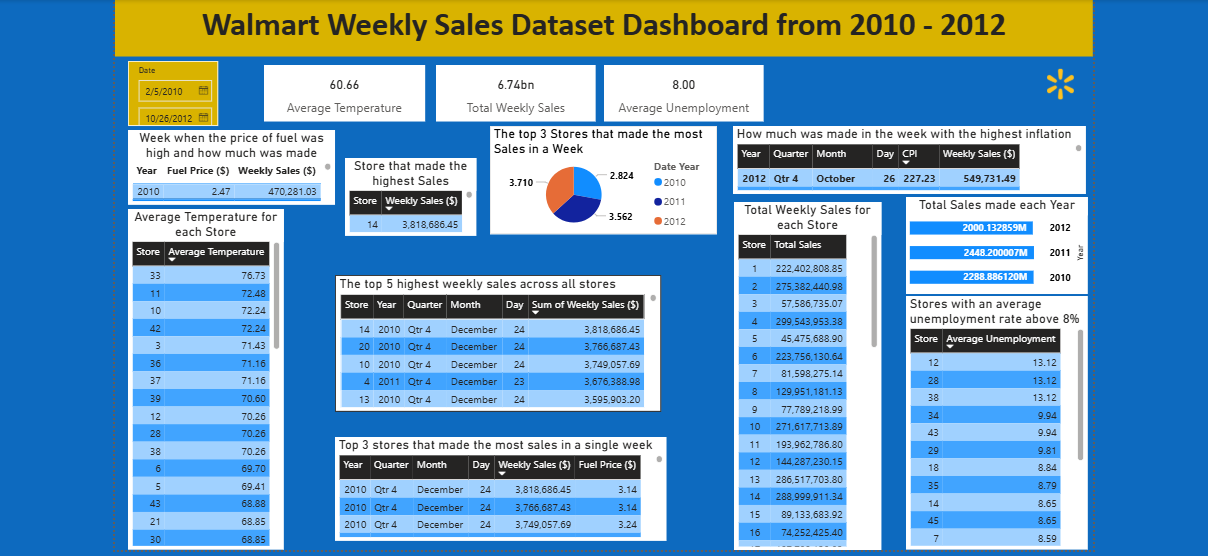

The page's visual inventory and layout, read from the dashboard file:
{"tool":"powerbi","page":{"name":"Page 1","canvas":[1280,720],"ordinal":0},"visuals":[{"type":"textbox","box":[0,0,1280,74.3],"z":0},{"type":"image","box":[1194.7,85.3,85.3,49.5],"z":1000},{"type":"slicer","title":"Which Store made the Highest Sales","fields":{"Values":["Walmart.Date"]},"box":[16.5,79.8,118.4,85.3],"z":2000},{"type":"card","fields":{"Values":["Walmart.Average Temperature"]},"box":[195.4,85.3,210.6,74.3],"z":4000},{"type":"card","fields":{"Values":["Walmart.Total Weekly Sales"]},"box":[419.8,85.3,209.2,74.3],"z":5000},{"type":"card","fields":{"Values":["Walmart.Average Unemployment"]},"box":[640,85.3,209.2,74.3],"z":6000},{"type":"tableEx","title":"Store that made the highest Sales","fields":{"Values":["Walmart.Store","Walmart.Weekly Sales ($)"]},"box":[301.4,206.5,172,101.8],"z":7000},{"type":"tableEx","title":"Total Weekly Sales for each Store","fields":{"Values":["Walmart.Store","Walmart.Total Sales"]},"box":[810.7,264.3,192.7,455.6],"z":8000},{"type":"tableEx","title":"Average Temperature for each Store","fields":{"Values":["Walmart.Store","Walmart.Average Temperature"]},"box":[16.5,273.9,203.7,445.9],"z":9000},{"type":"clusteredBarChart","title":"Total Sales made each Year","fields":{"Y":["Walmart.Total Sales"],"Category":["Walmart.Date.Variation.Date Hierarchy.Year"]},"box":[1035,257.4,238.1,126.6],"z":10000},{"type":"tableEx","title":"Week when the price of fuel was high  and how much was made","fields":{"Values":["Walmart.Date.Variation.Date Hierarchy.Year","Walmart.Fuel Price ($)","Walmart.Weekly Sales ($)"]},"box":[16.5,170.7,271.1,97.7],"z":11000},{"type":"tableEx","title":"The top 5 highest weekly sales across all stores","fields":{"Values":["Walmart.Store","Walmart.Date.Variation.Date Hierarchy.Year","Walmart.Date.Variation.Date Hierarchy.Quarter","Walmart.Date.Variation.Date Hierarchy.Month","Walmart.Date.Variation.Date Hierarchy.Day","Sum(Walmart.Weekly Sales ($))"]},"box":[287.7,360.6,426.7,178.9],"z":12000},{"type":"tableEx","title":"How much was made in the week with the highest inflation","fields":{"Values":["Walmart.Date.Variation.Date Hierarchy.Year","Walmart.Date.Variation.Date Hierarchy.Quarter","Walmart.Date.Variation.Date Hierarchy.Month","Walmart.Date.Variation.Date Hierarchy.Day","Walmart.CPI","Walmart.Weekly Sales ($)"]},"box":[809.3,165.2,462.5,89.5],"z":13000},{"type":"tableEx","title":"Stores with an average unemployment rate above 8%","fields":{"Values":["Walmart.Store","Walmart.Average Unemployment"]},"box":[1035,388.1,238.1,331.7],"z":14000},{"type":"pieChart","title":"The top 3 Stores that made the most Sales in a Week","fields":{"Category":["Walmart.Date.Variation.Date Hierarchy.Year"],"Y":["Walmart.Average Fuel Price"]},"box":[491.4,165.2,297.3,141.8],"z":15000},{"type":"tableEx","title":"Top 3 stores that made the most sales in a single week","fields":{"Values":["Walmart.Date.Variation.Date Hierarchy.Year","Walmart.Date.Variation.Date Hierarchy.Quarter","Walmart.Date.Variation.Date Hierarchy.Month","Walmart.Date.Variation.Date Hierarchy.Day","Walmart.Weekly Sales ($)","Walmart.Fuel Price ($)"]},"box":[287.7,572.6,433.5,136.3],"z":16000}]}

Visuals, with their boxes in screenshot pixels (x1, y1, x2, y2):
textbox: 113/0/1089/54
image: 1024/62/1089/100
"Which Store made the Highest Sales" slicer: 126/58/216/123
card - Walmart.Average Temperature: 262/62/423/119
card - Walmart.Total Weekly Sales: 433/62/593/119
card - Walmart.Average Unemployment: 601/62/761/119
"Store that made the highest Sales" tableEx: 343/154/474/232
"Total Weekly Sales for each Store" tableEx: 732/198/879/546
"Average Temperature for each Store" tableEx: 126/206/281/546
"Total Sales made each Year" clusteredBarChart: 903/193/1084/290
"Week when the price of fuel was high  and how much was made" tableEx: 126/127/333/202
"The top 5 highest weekly sales across all stores" tableEx: 333/272/658/408
"How much was made in the week with the highest inflation" tableEx: 730/123/1083/191
"Stores with an average unemployment rate above 8%" tableEx: 903/293/1084/546
"The top 3 Stores that made the most Sales in a Week" pieChart: 488/123/715/231
"Top 3 stores that made the most sales in a single week" tableEx: 333/434/663/537
